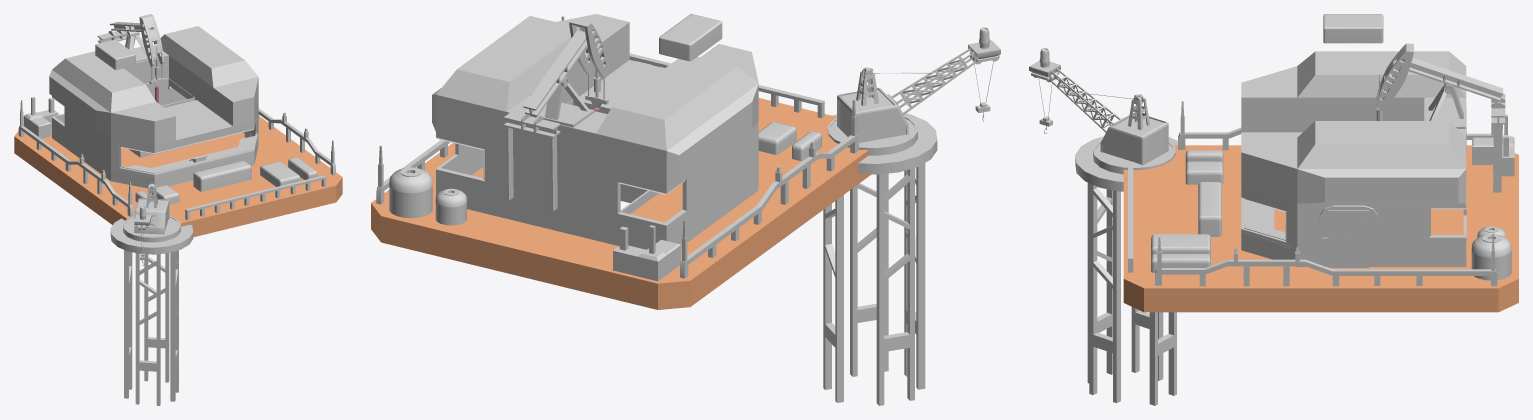
Rendered from sichu_in_test2.fbx.
3 views of the same model, side by side, from view 1: azimuth 30°, elevation 25°; view 2: azimuth 150°, elevation 25°; view 3: azimuth 270°, elevation 25° (orthographic). The views are drawn at different scales.
Visible parts, largest first — view 1: Box005, main_board, front_steel_structure2, Box024, Box003, Cylinder018, Box002, Box017, Box018, Box059, Box056, Cylinder019 (+1 smaller); view 2: Box005, main_board, front_steel_structure2, Box024, Box003, Cylinder016, Box018, Box059, Cylinder018, Box054, Box021, Cylinder019 (+8 smaller); view 3: Box005, main_board, front_steel_structure2, Box024, Box017, Box018, Cylinder016, Box054, Cylinder018, Box031, Box056, Box059 (+10 smaller).
Boxes of the visible parts, left/top/right/bottom form: Box005: left=49, top=26, right=258, bottom=188; main_board: left=14, top=116, right=342, bottom=237; front_steel_structure2: left=124, top=250, right=178, bottom=405; Box024: left=95, top=39, right=317, bottom=204; Box003: left=18, top=100, right=133, bottom=216; Cylinder018: left=110, top=218, right=193, bottom=254; Box002: left=185, top=175, right=326, bottom=220; Box017: left=258, top=108, right=335, bottom=175; Box018: left=134, top=198, right=169, bottom=234; Box059: left=23, top=97, right=58, bottom=138; Box056: left=139, top=14, right=164, bottom=66; Cylinder019: left=123, top=215, right=180, bottom=242; Box005: left=432, top=14, right=758, bottom=249; main_board: left=371, top=98, right=871, bottom=309; front_steel_structure2: left=823, top=163, right=925, bottom=405; Box024: left=659, top=14, right=821, bottom=160; Box003: left=680, top=99, right=858, bottom=278; Cylinder016: left=389, top=167, right=466, bottom=225; Box018: left=837, top=88, right=908, bottom=142; Box059: left=613, top=225, right=681, bottom=281; Cylinder018: left=832, top=113, right=937, bottom=174; Box054: left=523, top=30, right=587, bottom=116; Box021: left=891, top=48, right=974, bottom=114; Cylinder019: left=827, top=115, right=917, bottom=155; Box005: left=1241, top=51, right=1466, bottom=266; main_board: left=1123, top=145, right=1518, bottom=312; front_steel_structure2: left=1087, top=182, right=1176, bottom=405; Box024: left=1151, top=14, right=1383, bottom=272; Box017: left=1155, top=233, right=1497, bottom=286; Box018: left=1100, top=112, right=1168, bottom=165; Cylinder016: left=1471, top=226, right=1511, bottom=280; Box054: left=1403, top=58, right=1503, bottom=101; Cylinder018: left=1075, top=136, right=1177, bottom=191; Box031: left=1328, top=210, right=1350, bottom=267; Box056: left=1376, top=43, right=1413, bottom=111; Box059: left=1472, top=114, right=1514, bottom=176.
Size of the model in its own units: 1904 by 2109 by 2313.
